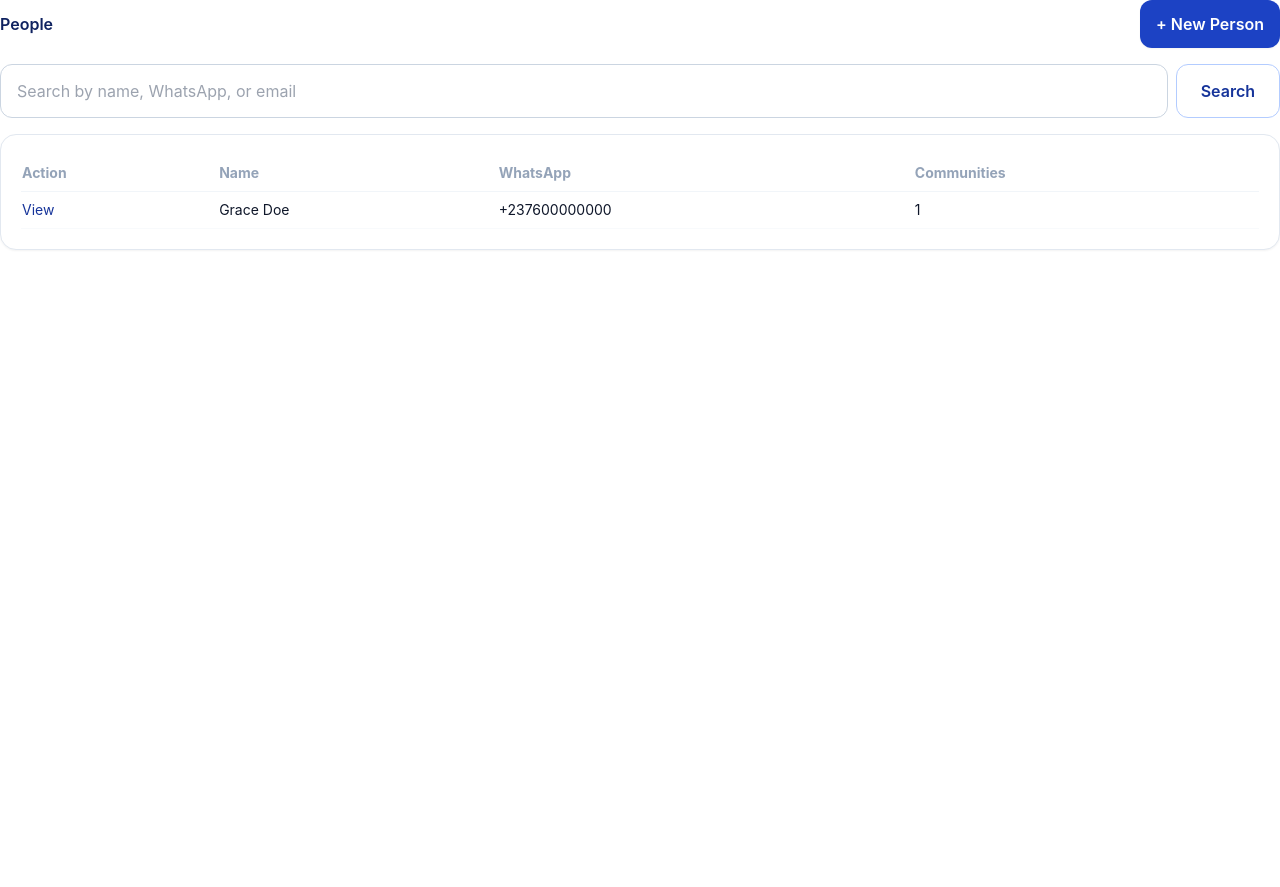
Scenario: PeopleTab — Member Reassignment (Move) › renders a Move action for an ACTIVE membership, showing the current Community
This screenshot has width=1280, height=887.
Click the button "View": (38,210) [22,200,54,220]
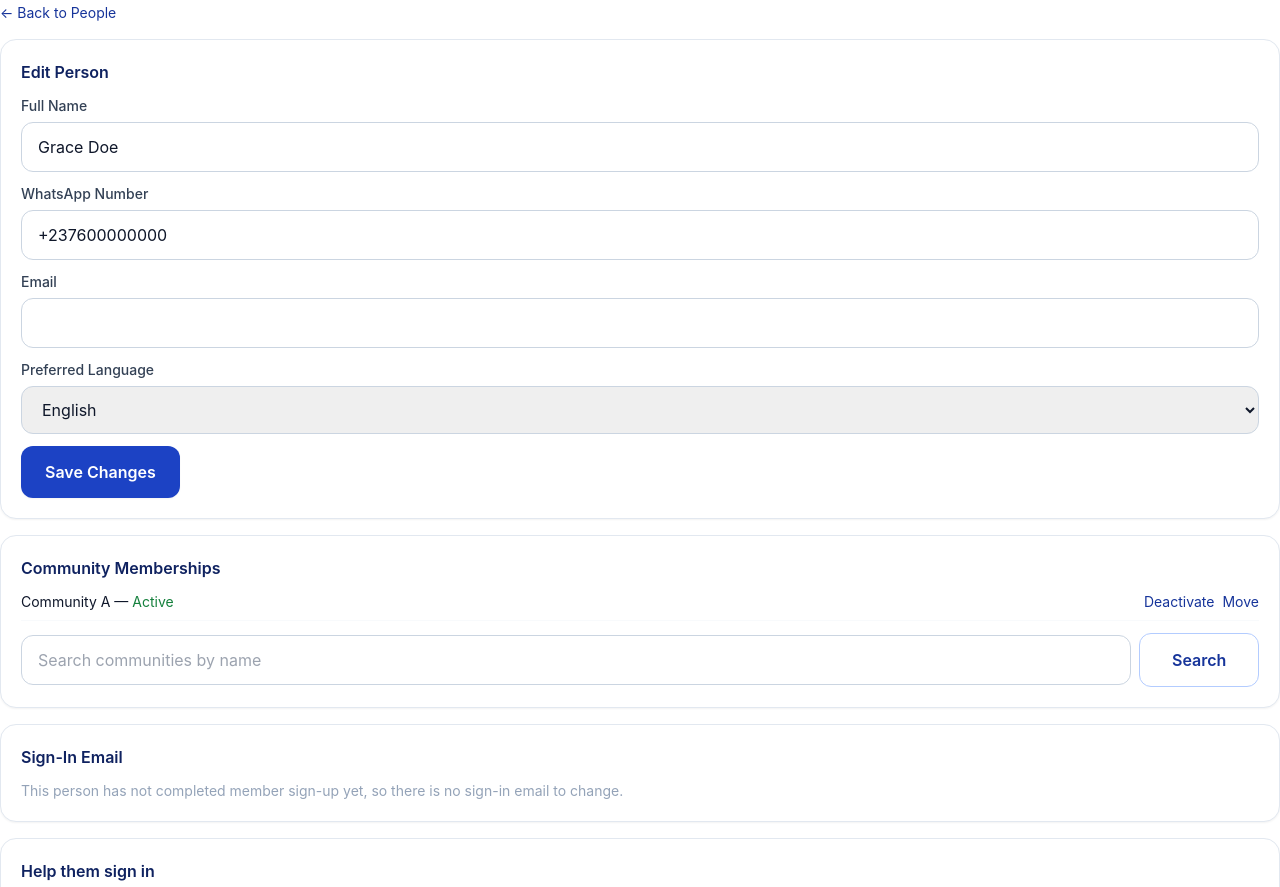
Expected: the text "Community A — Active" is shown, [21,592,174,612]
Click the button "Move": (1241,602) [1222,592,1259,612]
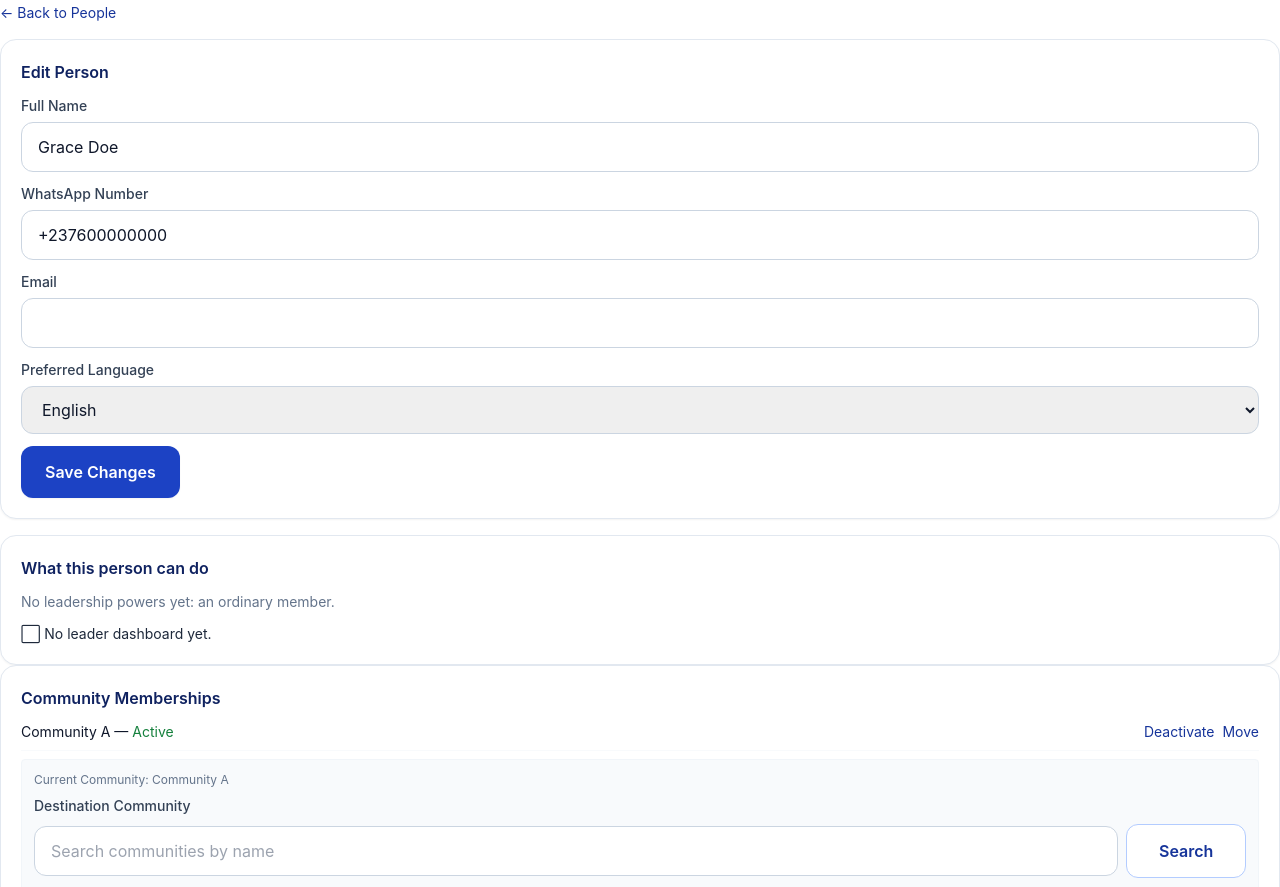
Expected: the text "Current Community: Community A" is shown, [34,772,229,787]
Expected: the text "Destination Community" is shown, [34,797,190,814]
